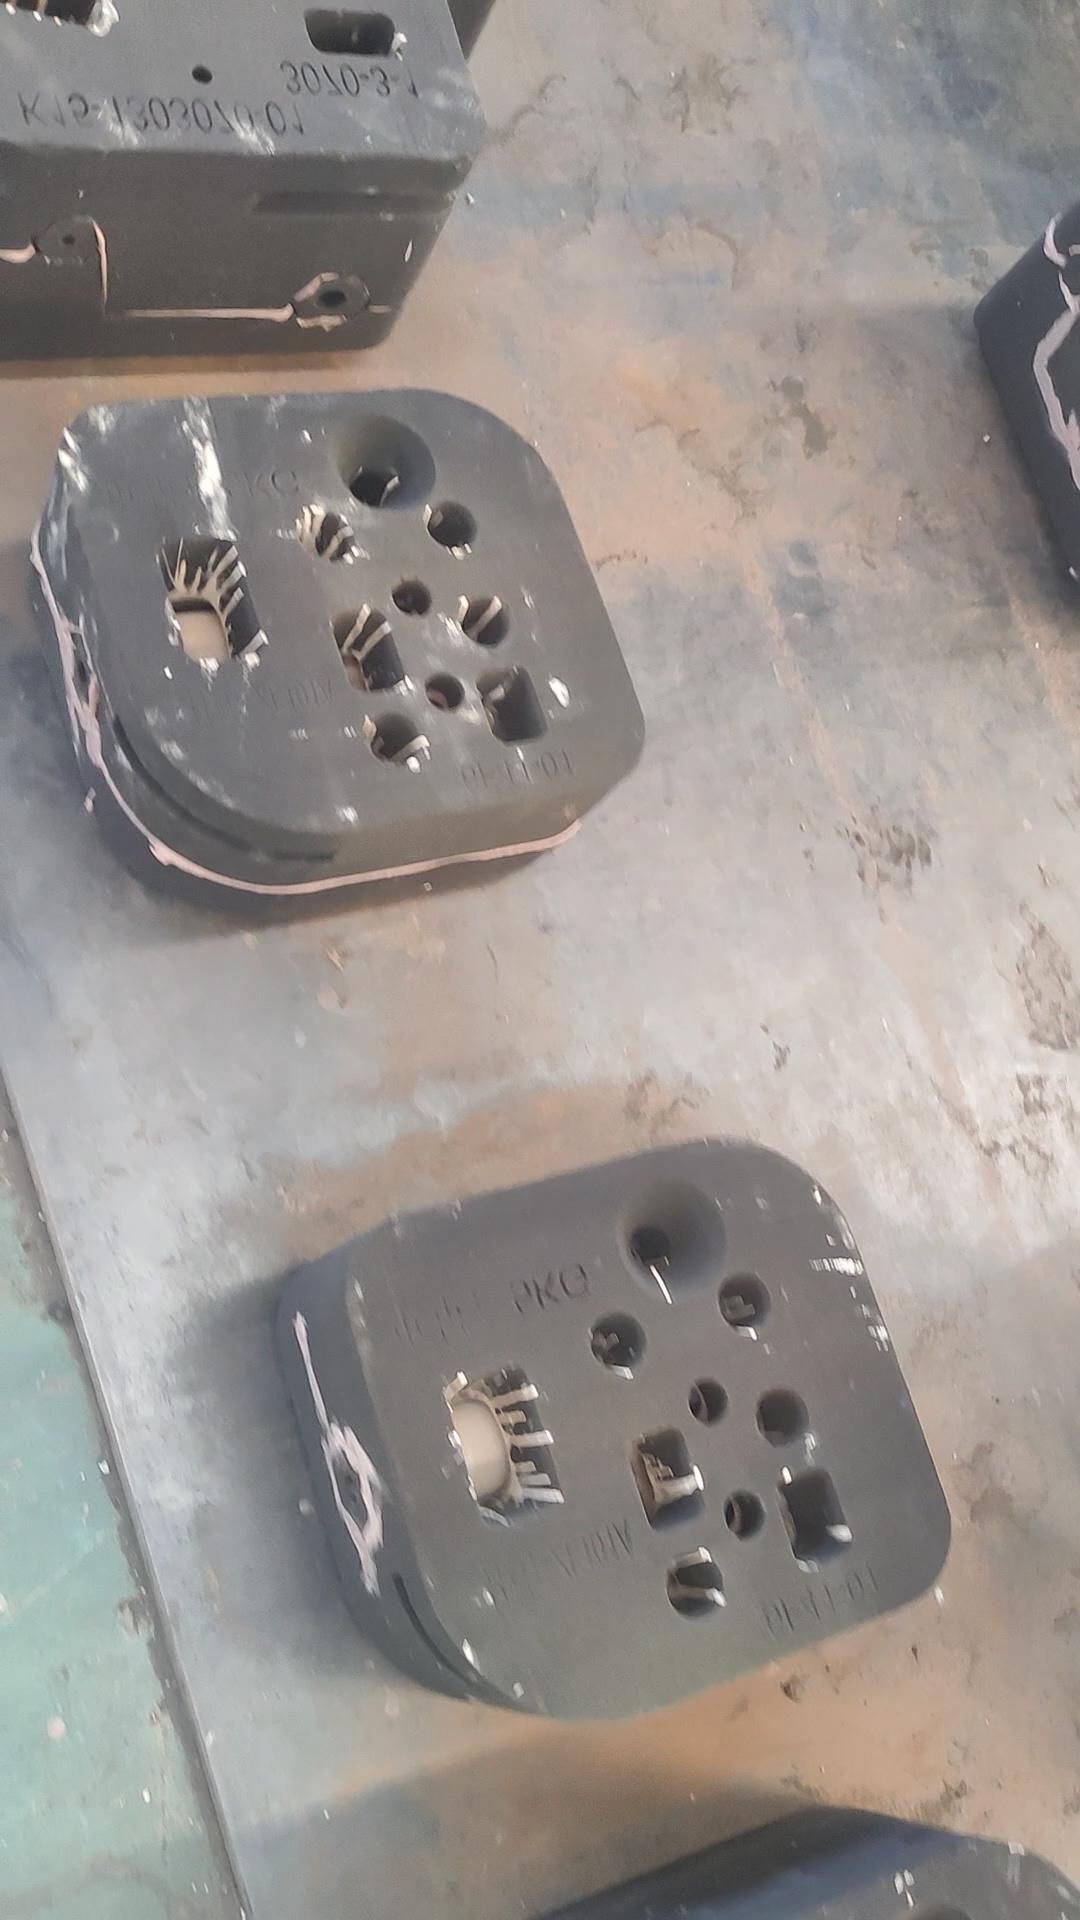pouring hole: (615, 1176, 729, 1299), (328, 413, 436, 514), (890, 1902, 972, 1920)
